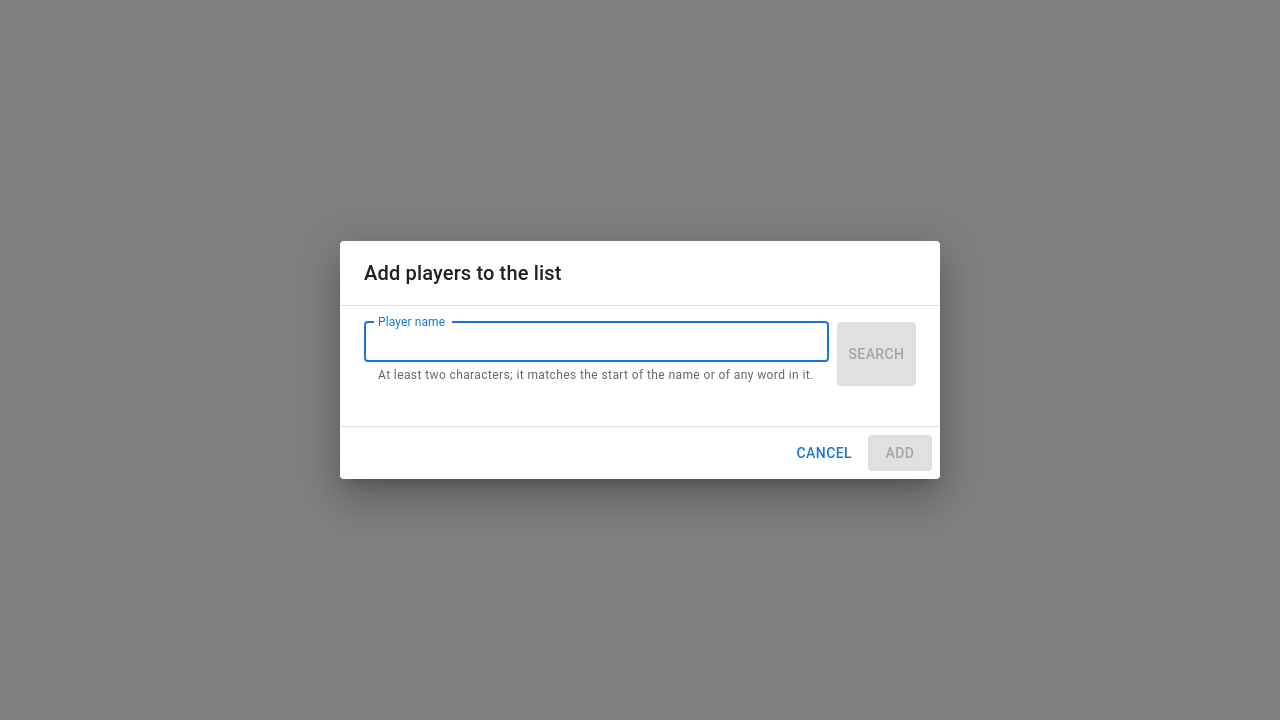
it: AuctionPlayerSearchDialog › names the database flag as the database’s, not as the model’s role
Type "dhoni" into the field labelled "Player name".
click(596, 342); type("dhoni")  # box x1=364 y1=322 x2=829 y2=362
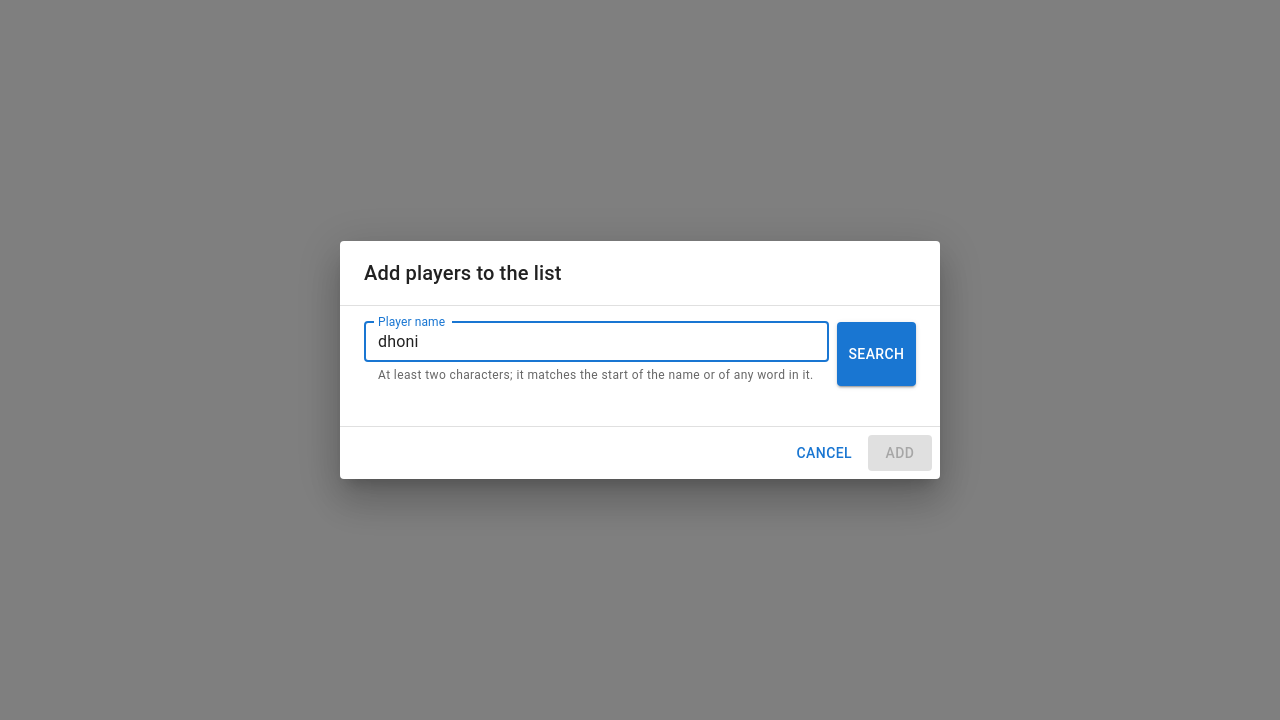
Click the button "Search".
click(876, 354)  # box x1=837 y1=322 x2=916 y2=386
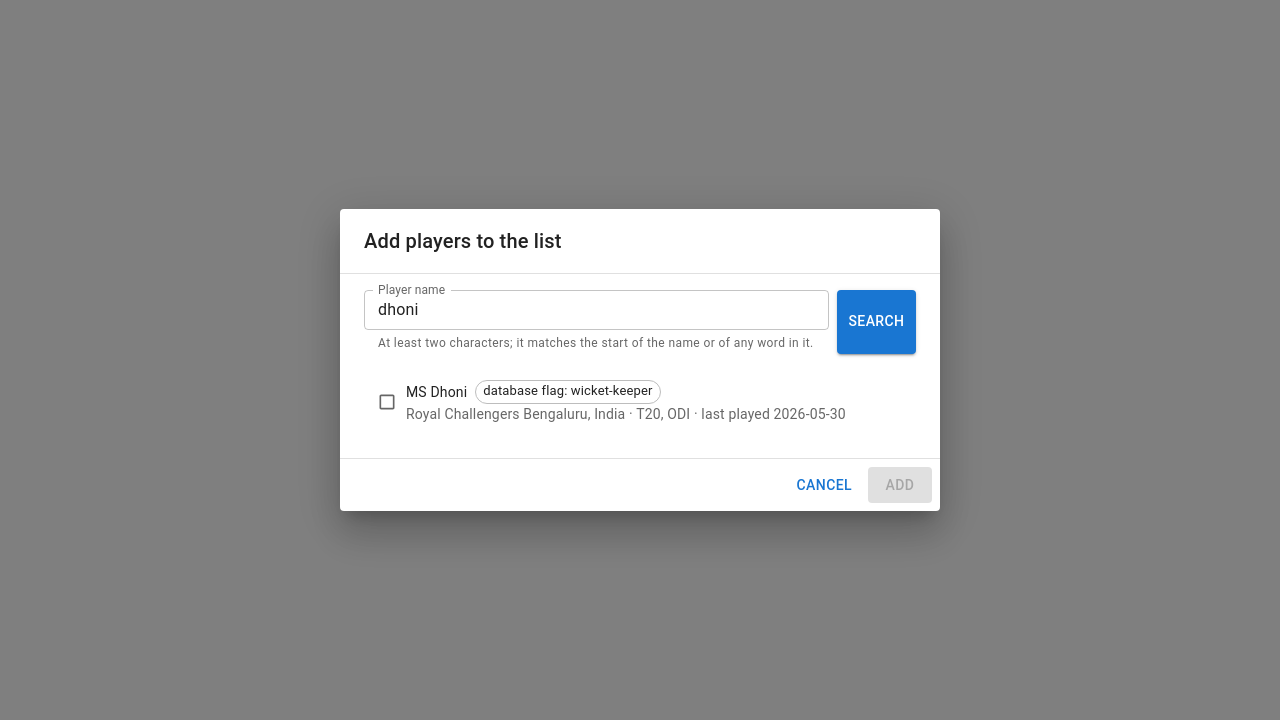
Expected: the text "database flag: wicket-keeper" is shown, x1=476 y1=382 x2=660 y2=401
